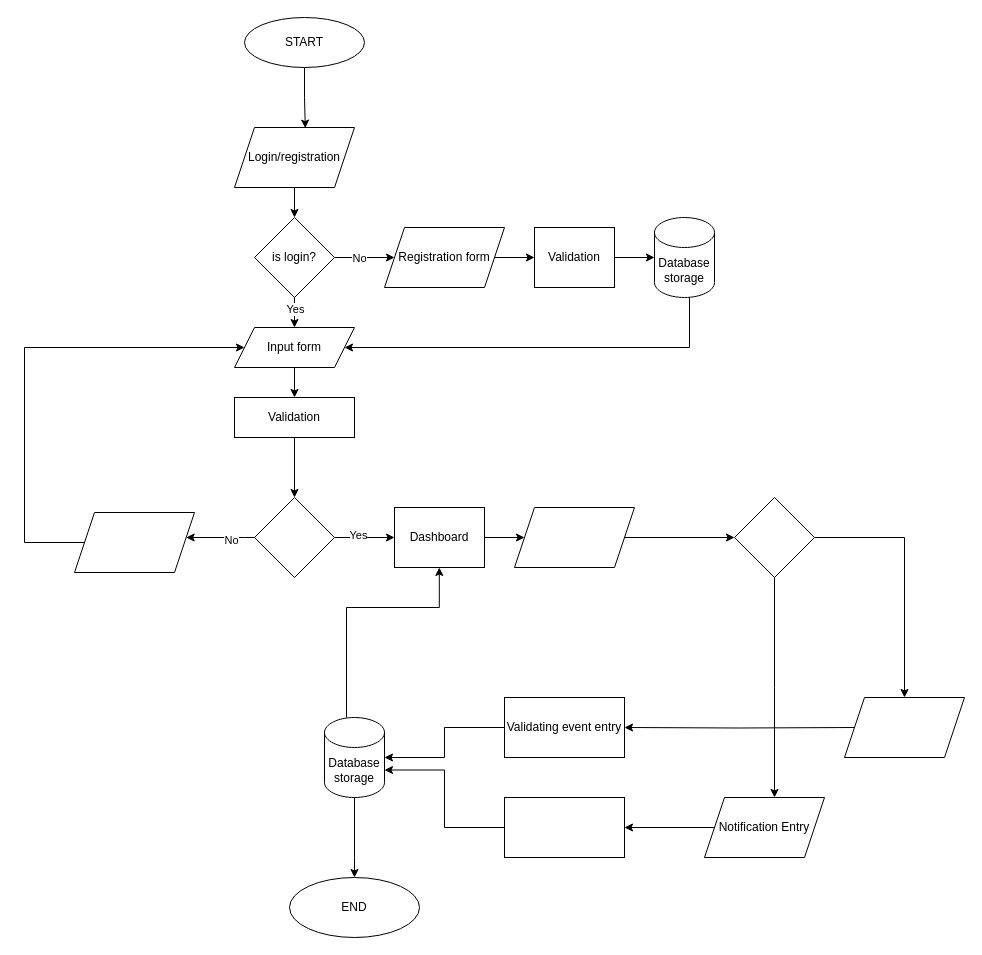
The diagram is 982 pixels wide and 955 high, and some of its shapes have lost their labels. The box of each missing label's shape, as (x1, y1, x2, y2) in pixels:
Event Entry: (844, 696, 964, 758)
Invalid input: (74, 512, 194, 572)
Is Event?: (734, 496, 814, 578)
is user valid?: (254, 496, 334, 578)
User Action: (514, 506, 634, 568)
Validating notification entries of events: (504, 796, 624, 858)
